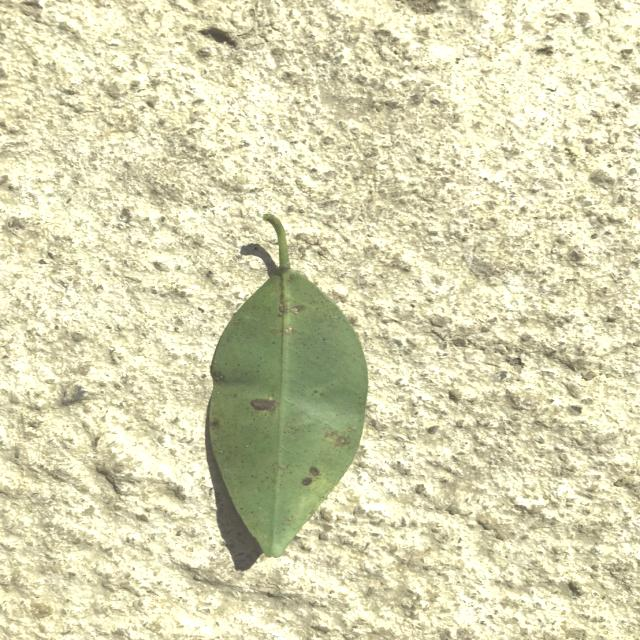canker: (228, 303, 358, 531)
